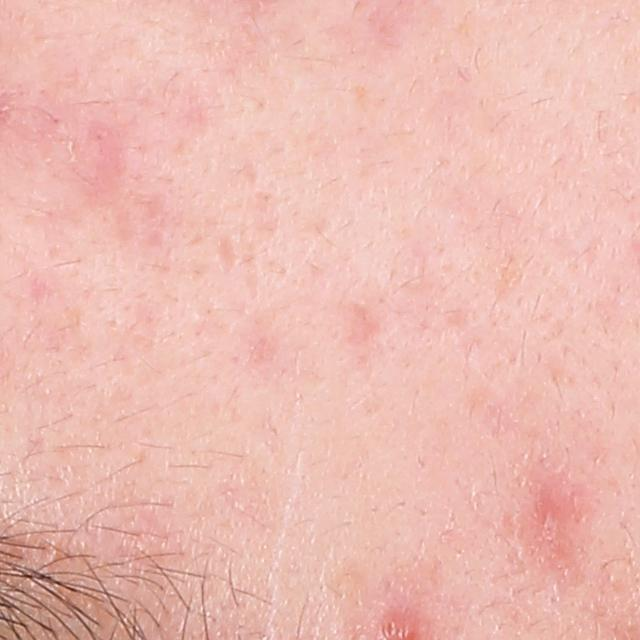atrophic_scar: (217, 232, 237, 279)
